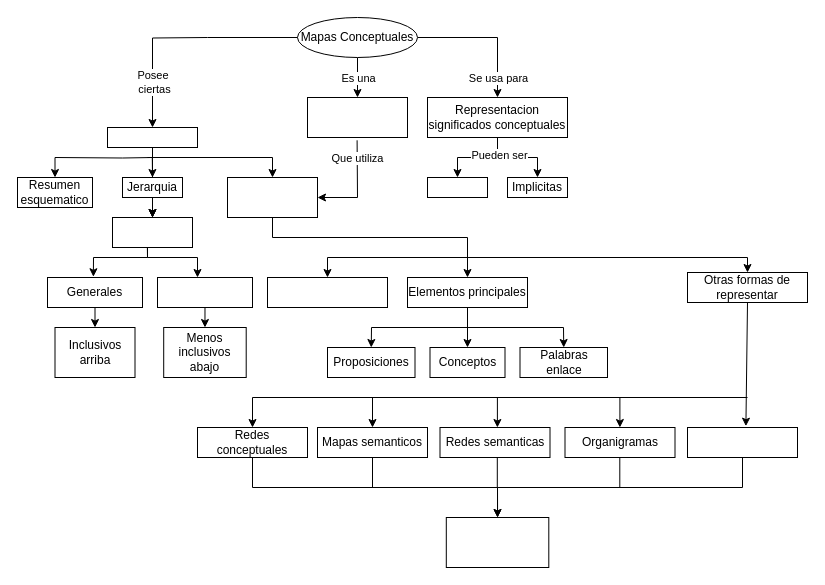
Some shapes in this 825 by 585 pixel diagram are drawn without their labels. Each missing label, with the centre of its shape:
Caracterisitcas: the point at 152,137
Diagramas de flujo: the point at 742,442
Especificos: the point at 204,292
Explicitas: the point at 457,187
Herramienta de modelado: the point at 357,117
Niveles de abstraccion: the point at 152,232
Rectangulos y lineas: the point at 327,292
Representacion grafica: the point at 272,197
Teorias del aprendizaje y del conocimiento: the point at 497,542
